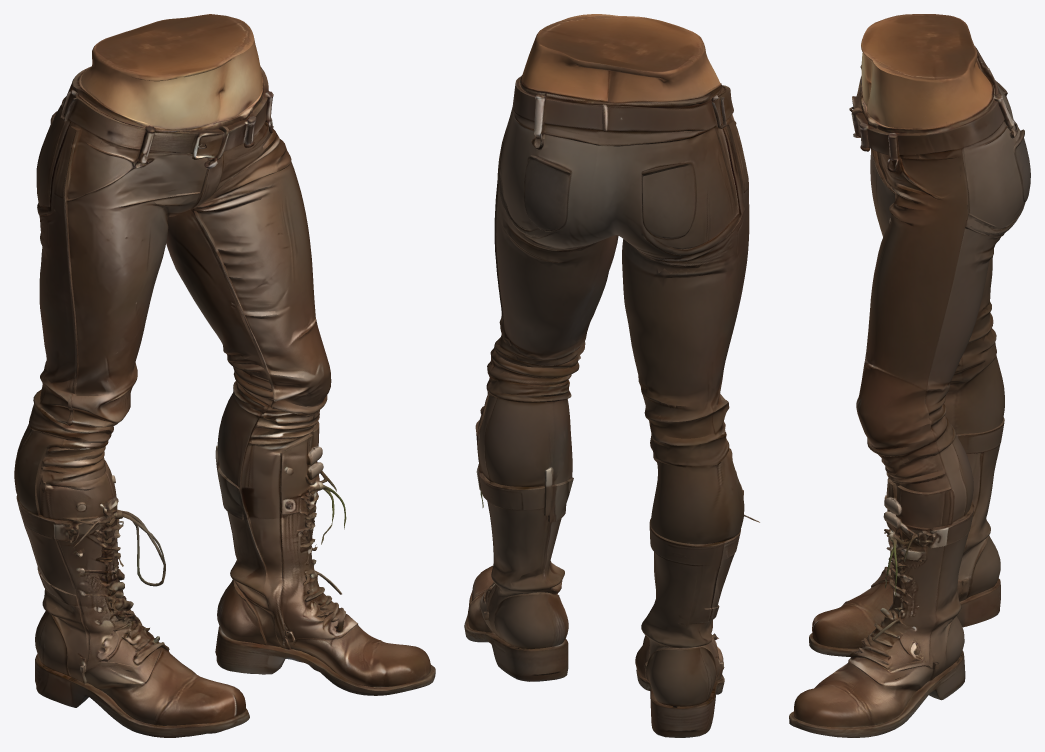
File: cantina_owner_legs.glb
3 renders of one model, left to right at view 1: azimuth 30°, elevation 25°; view 2: azimuth 150°, elevation 25°; view 3: azimuth 270°, elevation 25°, orthographic. The views are drawn at different scales.
Visible parts, largest first — view 1: model; view 2: model; view 3: model.
Boxes of the visible parts, x1,y1,x2,y2 form: model: [14, 14, 435, 737]; model: [464, 14, 759, 737]; model: [789, 14, 1030, 737].
Size of the model in its own units: 1.02 by 1.9 by 0.6812.
1 material, 1 textured.
